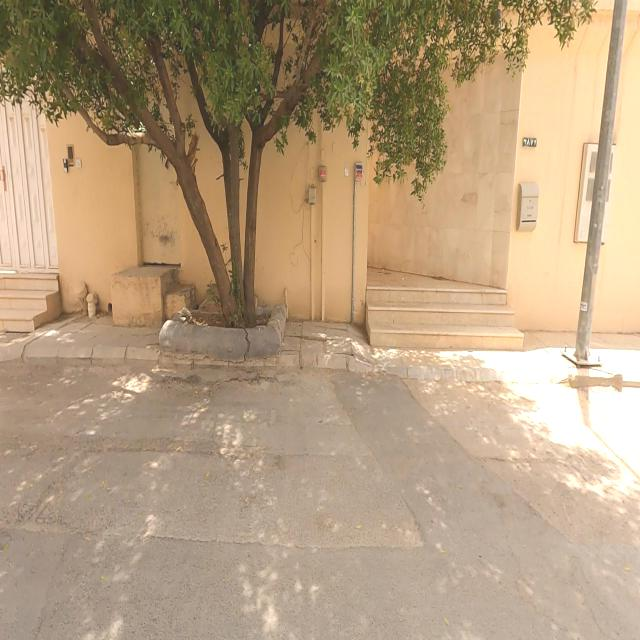debris: (53, 216, 128, 380)
